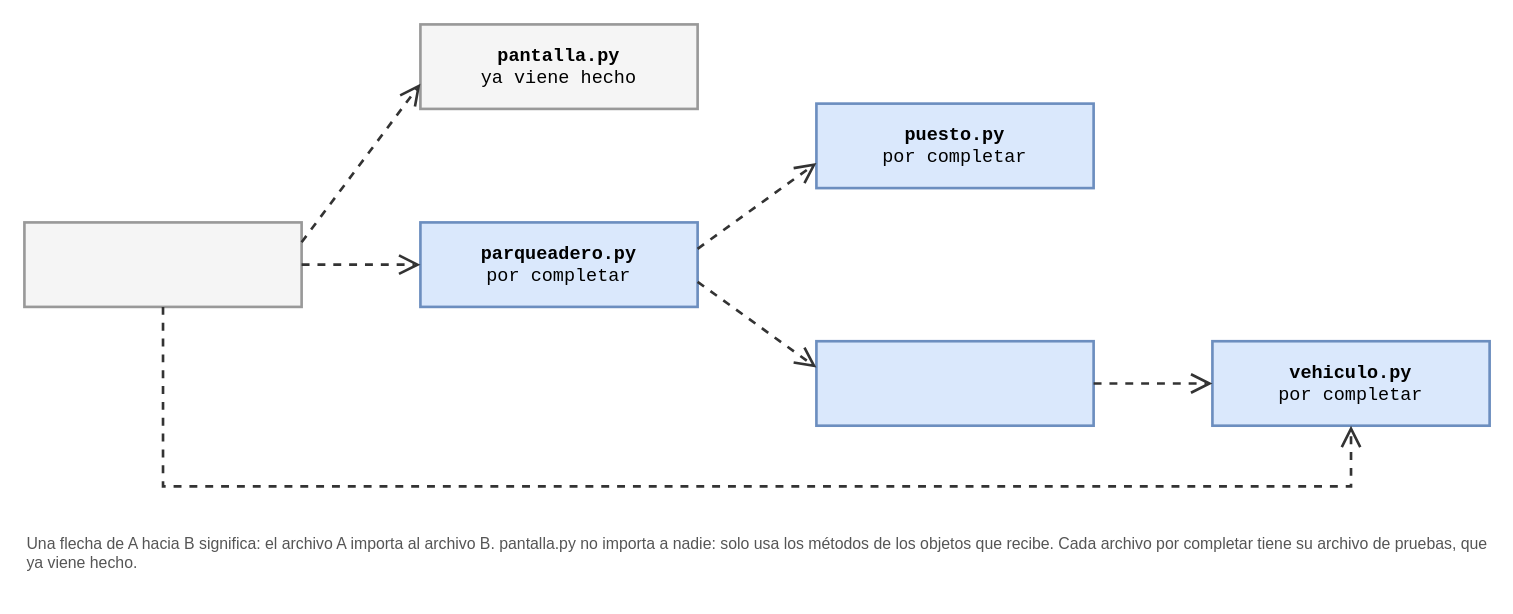
This 1513x614 diagram has some shape labels left out. Here are the shapes that lost their labels. From the top down, the box of each, then its label:
(22, 220, 302, 308): main.py ya viene hecho
(814, 339, 1094, 426): recibo.py por completar
